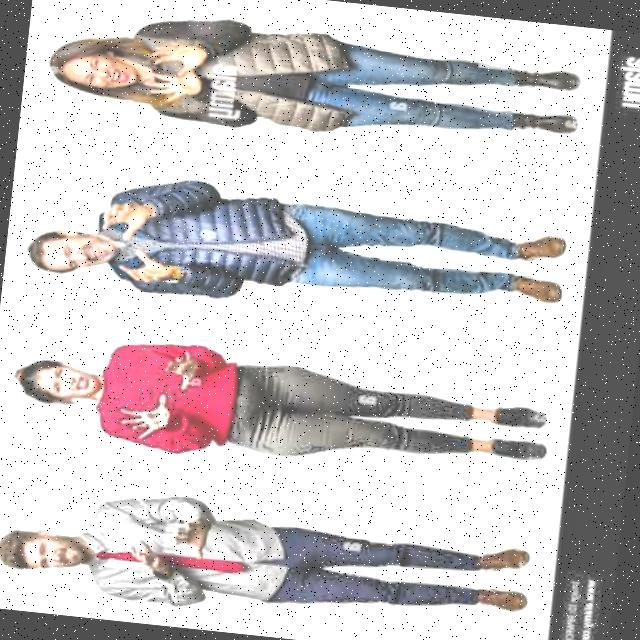disgust: (19, 206, 137, 300), (0, 350, 108, 416), (0, 520, 96, 581)
happy: (36, 21, 167, 112)
